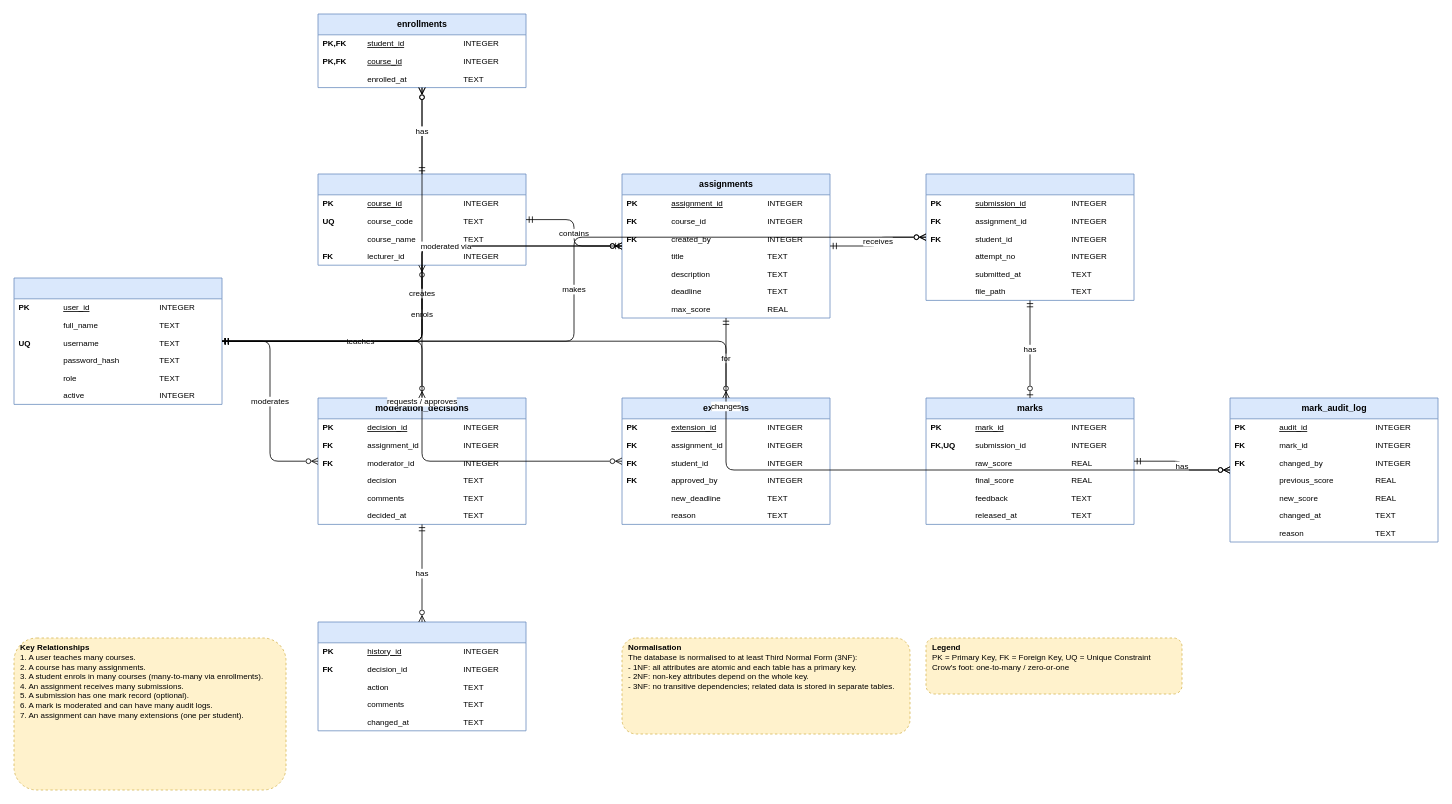
This 1452x804 diagram has some shape labels left out. The shapes that lost their labels are listed below. From the top down, each one's box as (x1, y1, x2, y2) in pixels, then its label:
(317, 173, 526, 265): courses
(925, 173, 1134, 300): submissions
(13, 277, 222, 404): users
(317, 621, 526, 731): moderation_history
